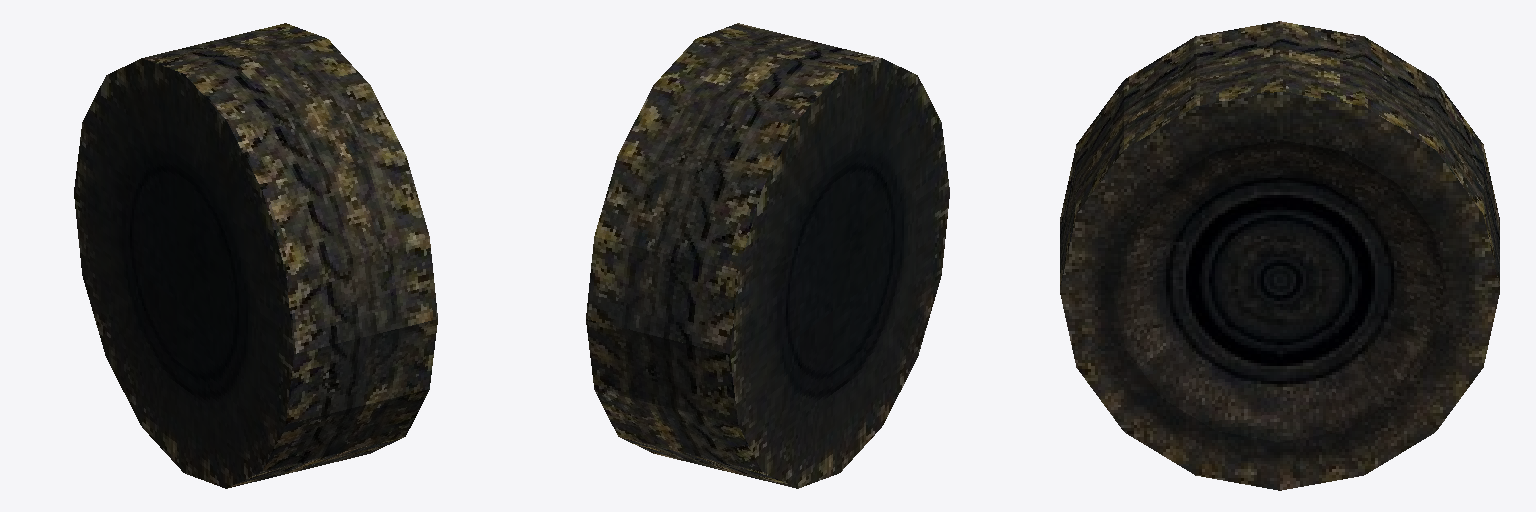
3 renders of one model, left to right at view 1: azimuth 30°, elevation 25°; view 2: azimuth 150°, elevation 25°; view 3: azimuth 270°, elevation 25°, orthographic.
Parts seen in each view (by area): view 1: Object_humvee_desert_tire_diffuse.jpg; view 2: Object_humvee_desert_tire_diffuse.jpg; view 3: Object_humvee_desert_tire_diffuse.jpg.
Part boxes in pixels (left/top/right/bottom): Object_humvee_desert_tire_diffuse.jpg: left=74, top=23, right=437, bottom=488; Object_humvee_desert_tire_diffuse.jpg: left=586, top=23, right=949, bottom=488; Object_humvee_desert_tire_diffuse.jpg: left=1060, top=21, right=1499, bottom=490.
Size of the model in its own units: 0.5821 by 1.54 by 1.54.
1 materials, 1 textured.